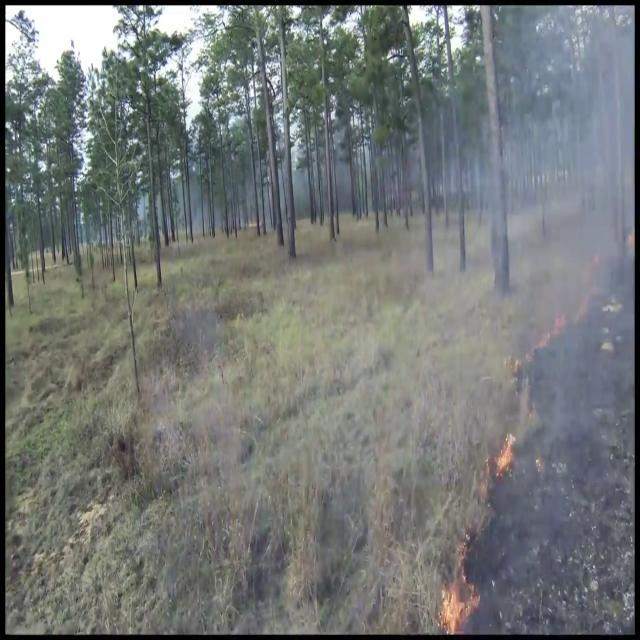Smoke: (462, 9, 634, 620)
